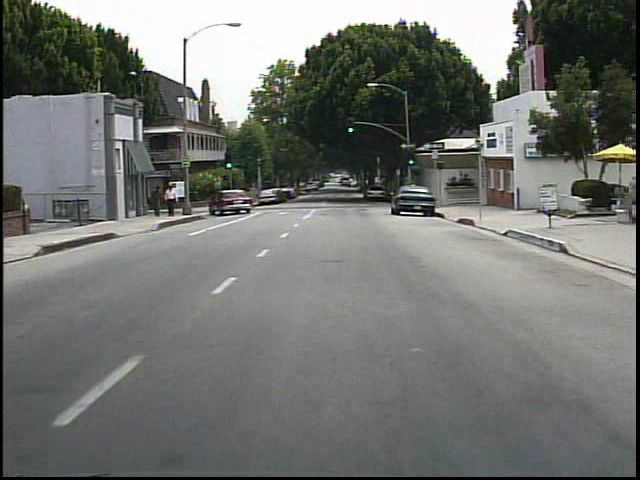person: (151, 183, 168, 218), (165, 184, 180, 218)
